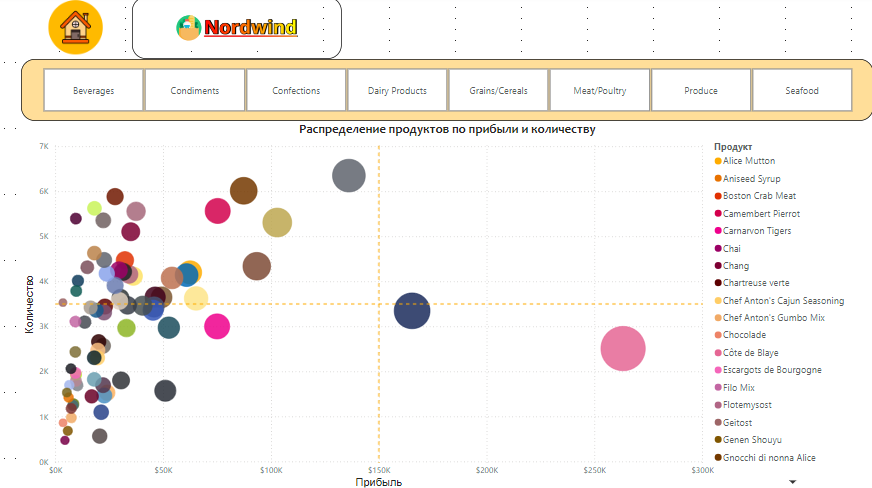

The page's visual inventory and layout, read from the dashboard file:
{"tool":"powerbi","page":{"name":"Прибыль и кол-во продуктов","canvas":[1280,720],"ordinal":2},"visuals":[{"type":"scatterChart","title":"Распределение продуктов по прибыли и количеству","fields":{"X":["orders_details_all.Total_Profit"],"Y":["orders_details_all.Quantity_Products"],"Series":["public products.product_name"],"Size":["orders_details_all.Total_Profit"]},"box":[40,181.7,1240,538.3],"z":0},{"type":"slicer","fields":{"Values":["public categories.category_name"]},"box":[40,91.7,1240,90],"z":1000},{"type":"image","box":[201.7,1.7,305,90],"z":2000},{"type":"image","box":[75.6,0,88.7,91.6],"z":3000}]}

Visuals, with their boxes in screenshot pixels (x1, y1, x2, y2), scaled from the page's 1280x720 canvas onto the 872x488 screenshot:
"Распределение продуктов по прибыли и количеству" scatterChart: rect(27, 123, 871, 487)
slicer - public categories.category_name: rect(27, 62, 871, 123)
image: rect(137, 1, 345, 62)
image: rect(52, 0, 112, 62)
